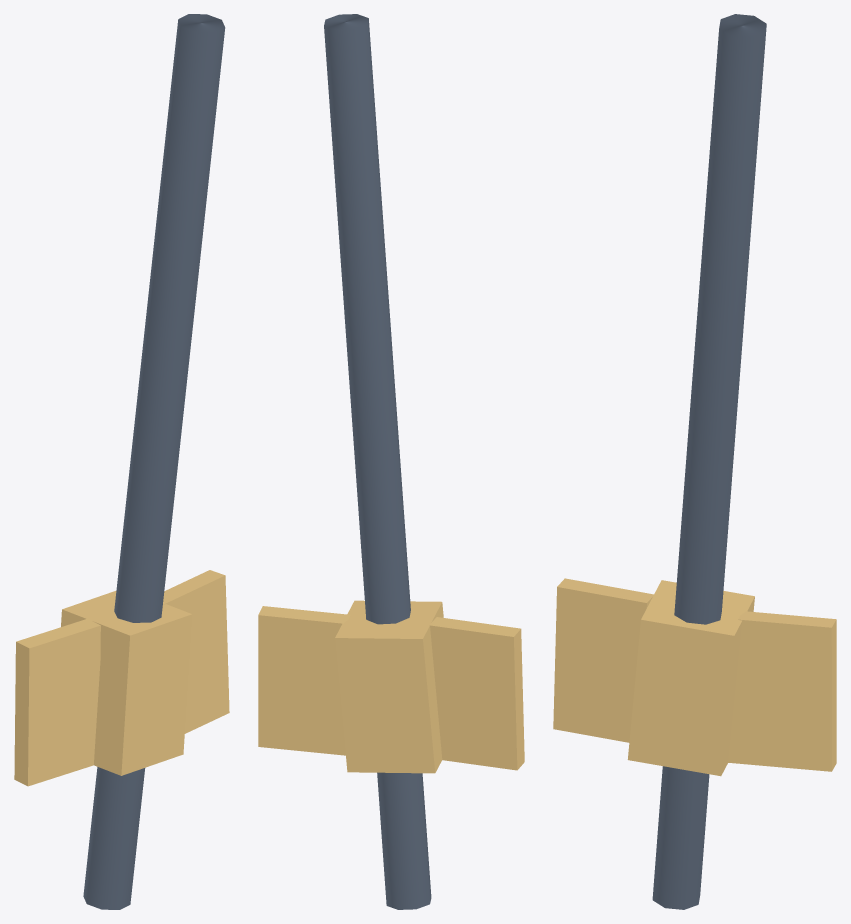
The model's file is compassbase.glb.
The picture shows the model from 3 angles, left to right: view 1: azimuth 30°, elevation 25°; view 2: azimuth 150°, elevation 25°; view 3: azimuth 330°, elevation 25°; orthographic projection. The views are drawn at different scales.
Parts seen in each view (by area): view 1: Cylinder.076, Cube.042, Cube.050, Cube.049; view 2: Cylinder.076, Cube.042, Cube.050, Cube.049; view 3: Cylinder.076, Cube.042, Cube.049, Cube.050.
Part boxes in pixels (x1,y1,x2,y2): Cylinder.076: (83,14,225,909); Cube.042: (61,591,192,775); Cube.050: (14,618,100,786); Cube.049: (163,570,229,733); Cylinder.076: (324,14,431,909); Cube.042: (335,600,443,773); Cube.050: (429,617,524,770); Cube.049: (258,606,350,755); Cylinder.076: (652,14,766,909); Cube.042: (627,580,754,776); Cube.049: (728,611,836,771); Cube.050: (553,578,654,742).
Bounding box in the file's own units: 0.0697 × 0.2447 × 0.0304.
